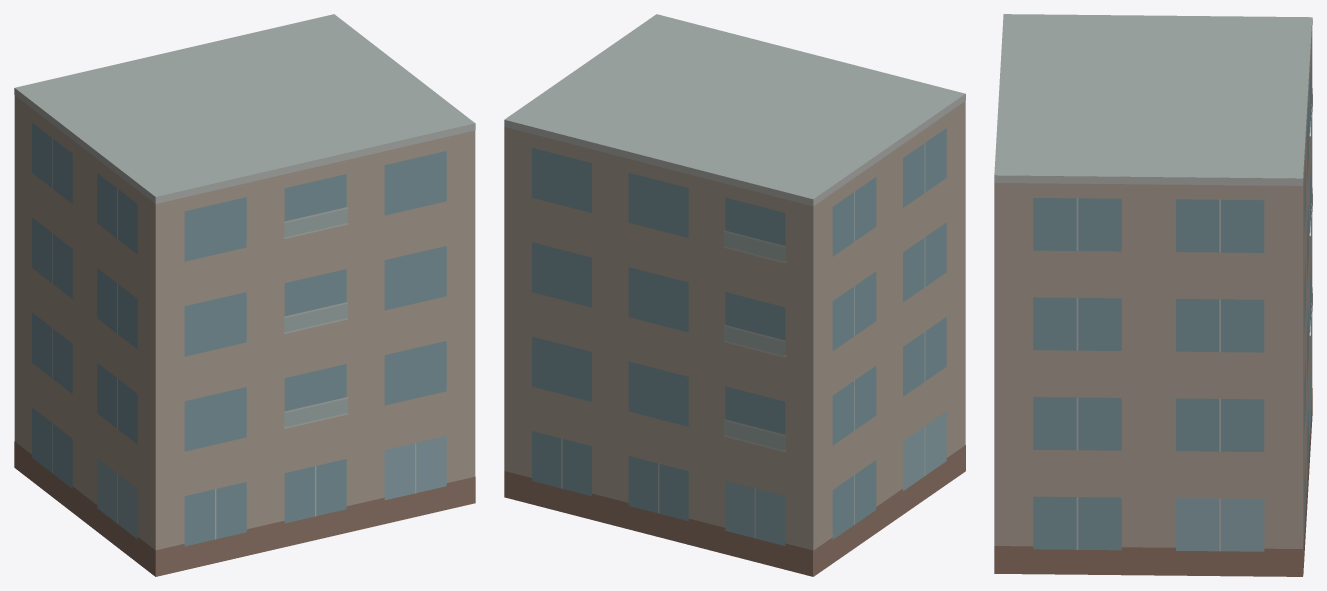
Rendered from survey-upis-32737681.glb.
3 views of the same model, side by side, from view 1: azimuth 30°, elevation 25°; view 2: azimuth 150°, elevation 25°; view 3: azimuth 270°, elevation 25° (orthographic). The views are drawn at different scales.
Visible parts, largest first — view 1: survey-upis-32737681.tmp; view 2: survey-upis-32737681.tmp; view 3: survey-upis-32737681.tmp.
Boxes of the visible parts, box(x1,y1,x2,y2) form: survey-upis-32737681.tmp: box(14, 14, 475, 576); survey-upis-32737681.tmp: box(504, 14, 965, 576); survey-upis-32737681.tmp: box(994, 14, 1312, 576).
Bounding box in the file's own units: 11.61 × 13.1 × 9.5.
